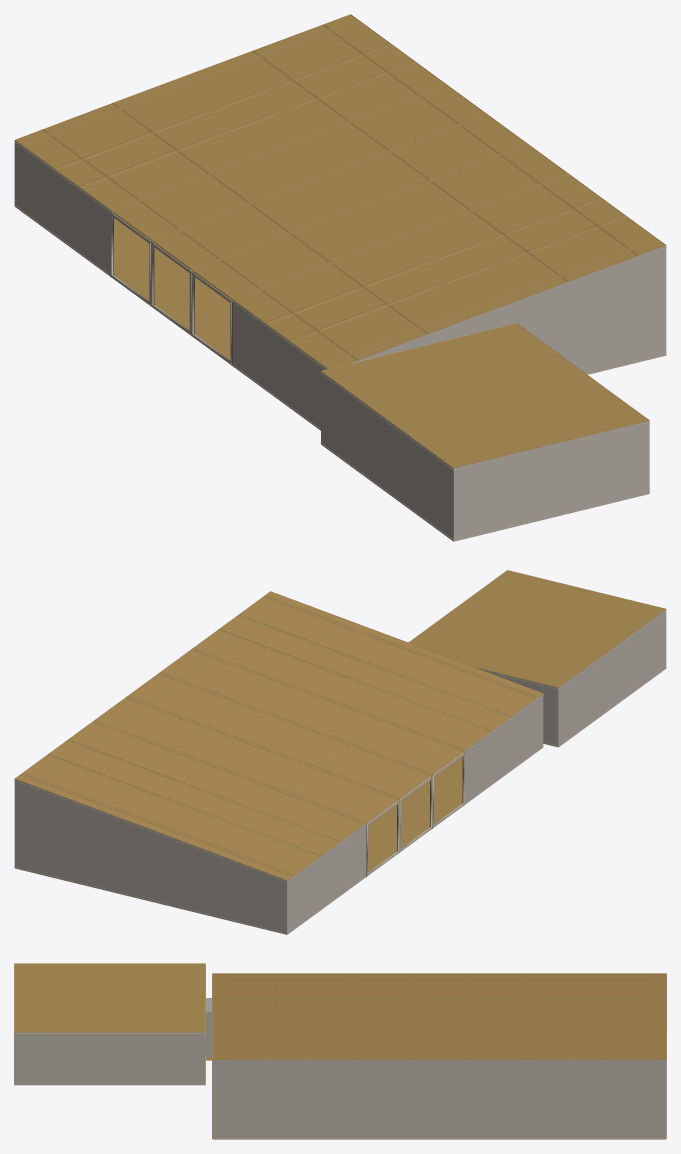
The model's file is toimisto_huone_01 (1) 1.fbx.
3 views of the same model, one above another, from view 1: azimuth 30°, elevation 25°; view 2: azimuth 150°, elevation 25°; view 3: azimuth 270°, elevation 25° (orthographic). The views are drawn at different scales.
Visible parts, largest first — view 1: katto_01, seinat_01, lattia_01, kattolista_01, kattotolppa_03; view 2: katto_01, seinat_01, lattia_01, kattolista_01, kattotolppa_01; view 3: katto_01, seinat_01, kattolista_01, lattialista_01, kattotolppa_pitka_01, kattotolppa_pitka_03, kattotolppa_pitka_04, kattotolppa_pitka_02.
Part boxes in pixels (left/top/right/bottom): katto_01: left=15, top=14, right=665, bottom=468; seinat_01: left=14, top=140, right=666, bottom=541; lattia_01: left=114, top=218, right=230, bottom=364; kattolista_01: left=15, top=14, right=666, bottom=470; kattotolppa_03: left=150, top=114, right=488, bottom=306; katto_01: left=14, top=570, right=665, bottom=880; seinat_01: left=14, top=609, right=666, bottom=934; lattia_01: left=287, top=757, right=462, bottom=934; kattolista_01: left=14, top=570, right=666, bottom=882; kattotolppa_01: left=192, top=648, right=464, bottom=803; katto_01: left=14, top=963, right=666, bottom=1059; seinat_01: left=14, top=998, right=666, bottom=1139; kattolista_01: left=14, top=963, right=666, bottom=1060; lattialista_01: left=14, top=1034, right=666, bottom=1139; kattotolppa_pitka_01: left=212, top=1052, right=666, bottom=1052; kattotolppa_pitka_03: left=212, top=998, right=666, bottom=998; kattotolppa_pitka_04: left=212, top=980, right=666, bottom=980; kattotolppa_pitka_02: left=212, top=1034, right=666, bottom=1034.
Bounding box in the file's own units: 1252 × 378 × 2802.
